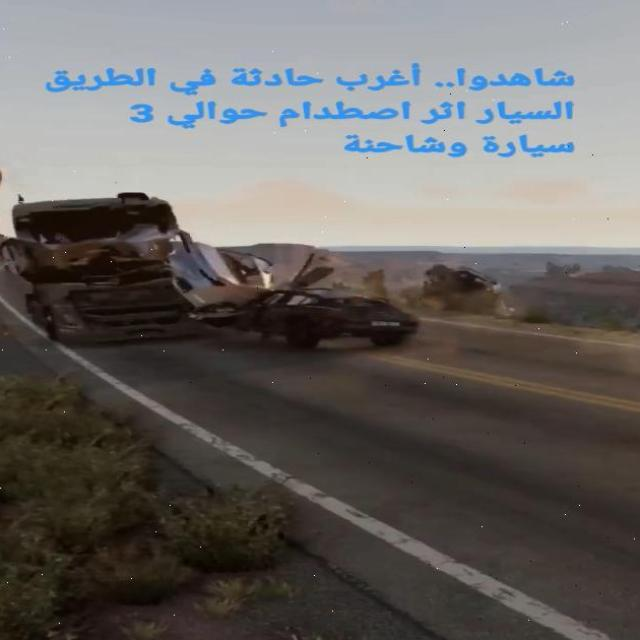accident: (0, 179, 428, 357)
